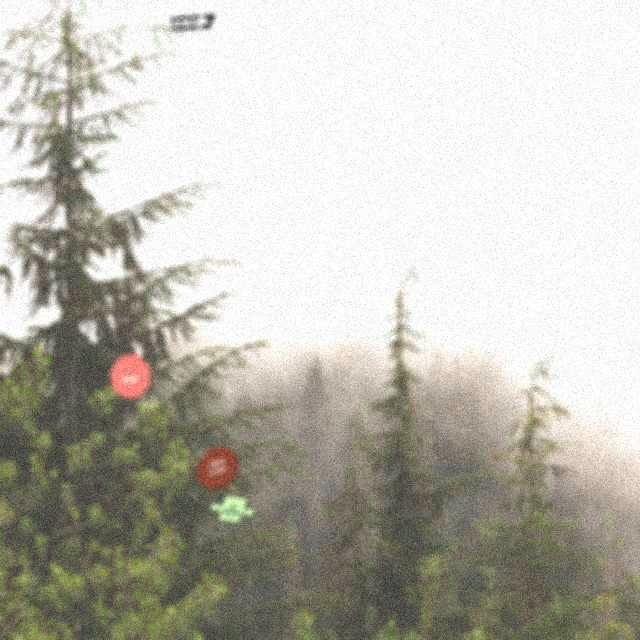FAKE_STOP: (196, 445, 239, 491)
GO_AROUND: (209, 495, 255, 523)
ONE_WAY_ right: (170, 13, 216, 31)
STOP: (109, 353, 151, 399)
